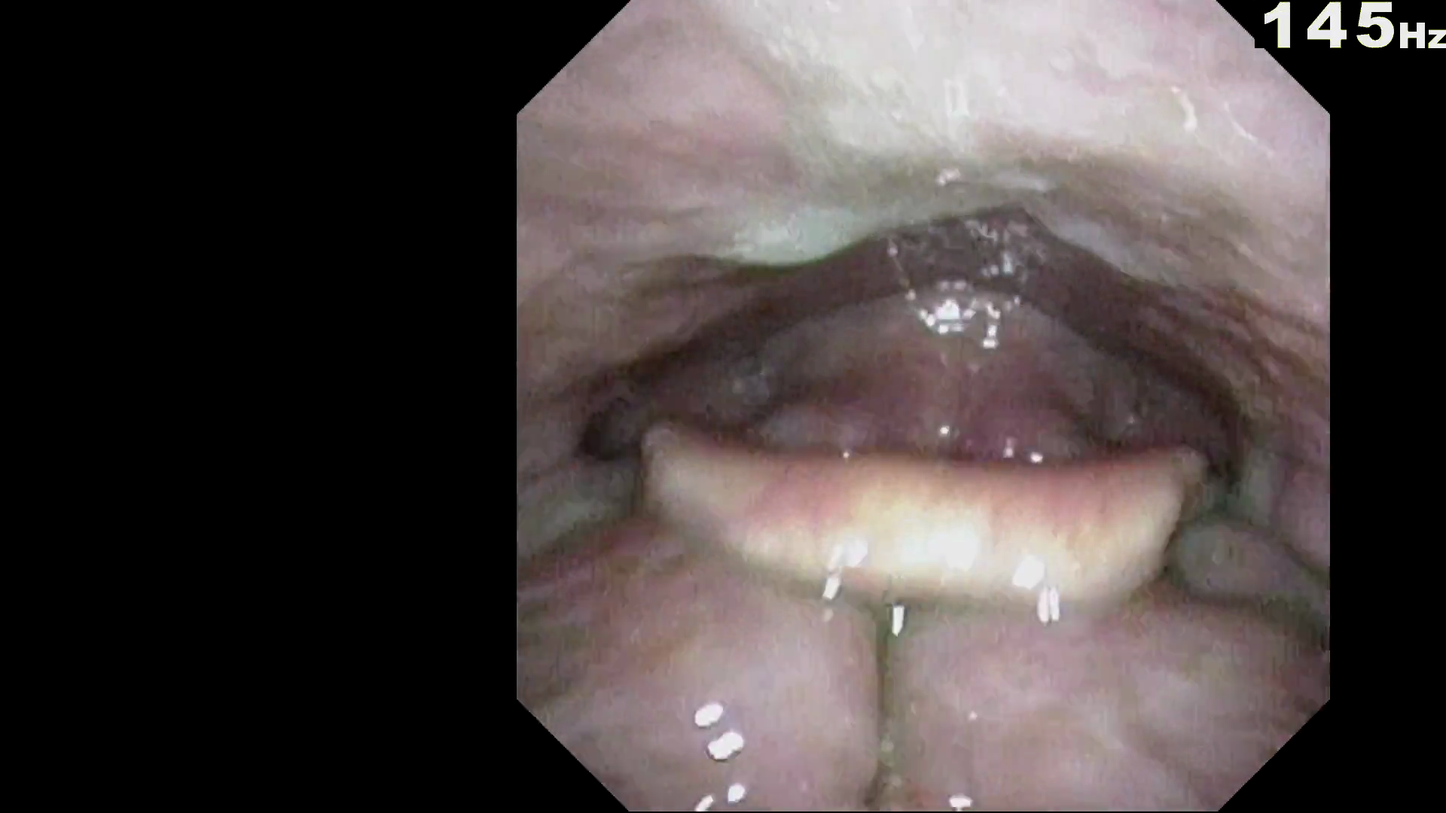epiglottis: (682, 445, 1184, 556)
